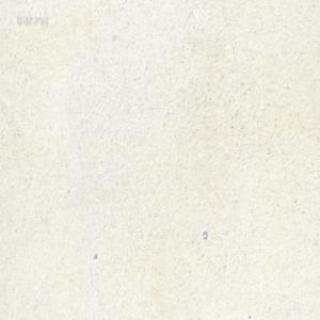Washertrack_idkeyframe: (201, 229, 207, 239)
